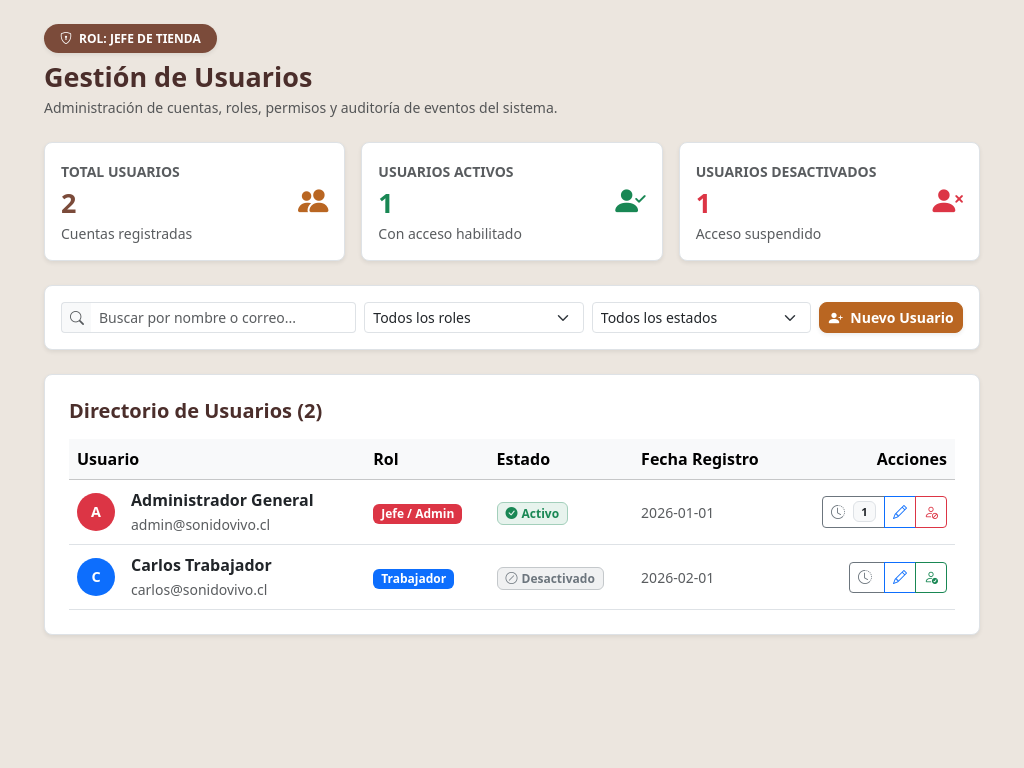
Test: UsuariosJefe - Pruebas Unitarias › 7. Muestra validaciones en el formulario de usuario ante campos vacíos, correo inválido o duplicado
The width and height of the screenshot is (1024, 768).
Click the button "Nuevo Usuario": [891, 318] box [819, 302, 963, 333]
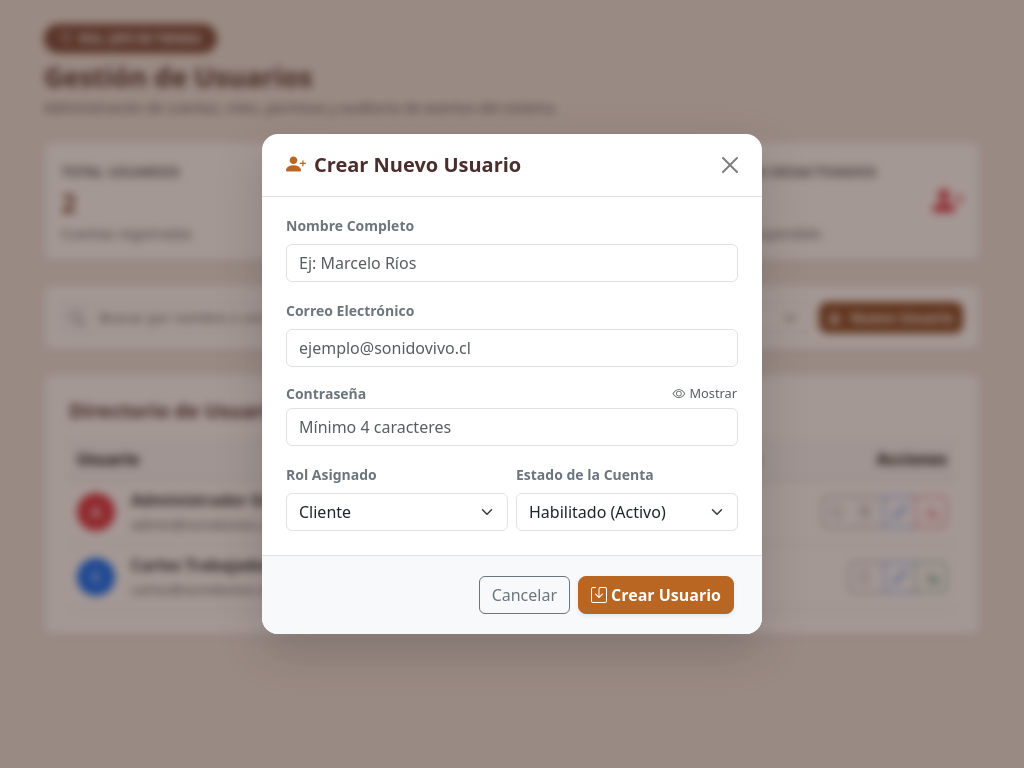
Click the button "Crear Usuario": [656, 595] box [578, 576, 734, 614]
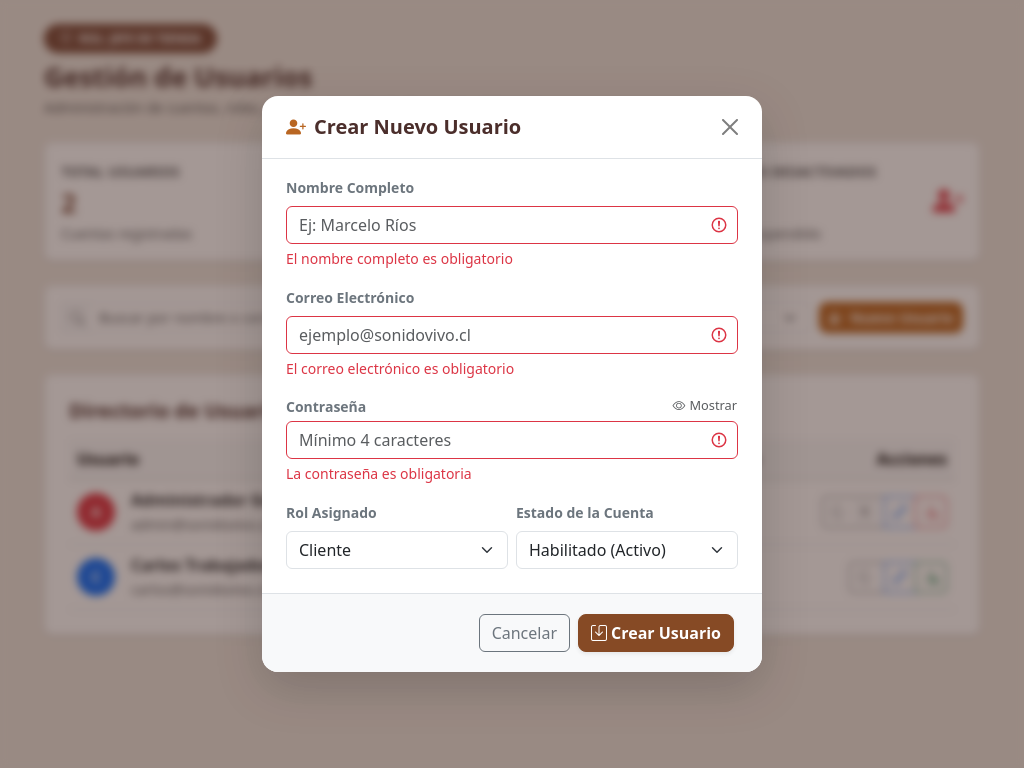
Check: the text "El nombre completo es obligatorio" is shown, box [286, 249, 513, 268]
Check: the text "El correo electrónico es obligatorio" is shown, box [286, 359, 514, 378]
Check: the text "La contraseña es obligatoria" is shown, box [286, 464, 472, 483]
In the field labelled "Correo Electrónico": [512, 335] box [286, 316, 738, 354], type "invalido"
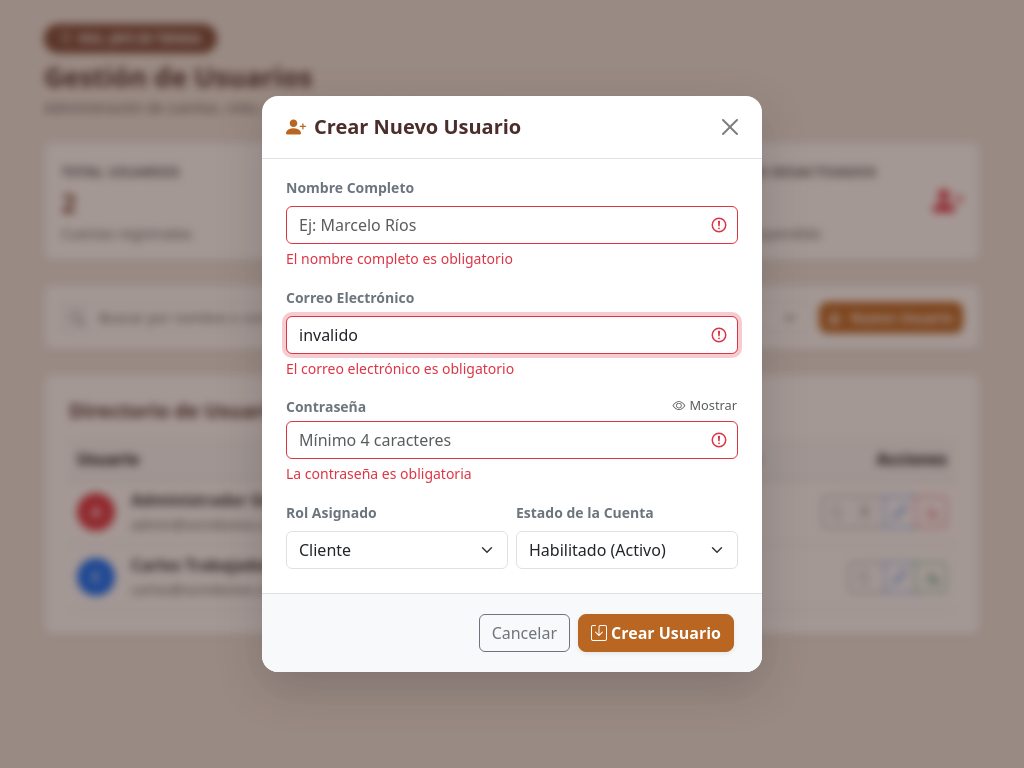
Click the button "Crear Usuario": [656, 633] box [578, 614, 734, 652]
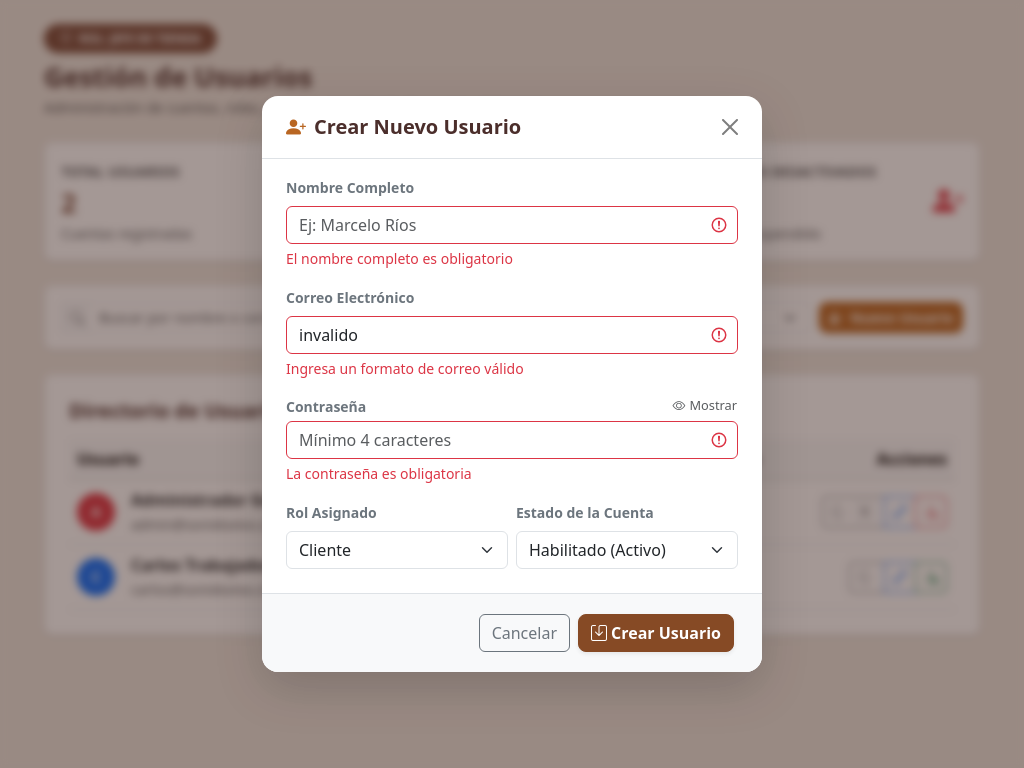
Check: the text "Ingresa un formato de correo válido" is shown, box [286, 359, 524, 378]
Replace the text in the field labelled "Correo Electrónico" with "admin@sonidovivo.cl": [512, 335] box [286, 316, 738, 354]
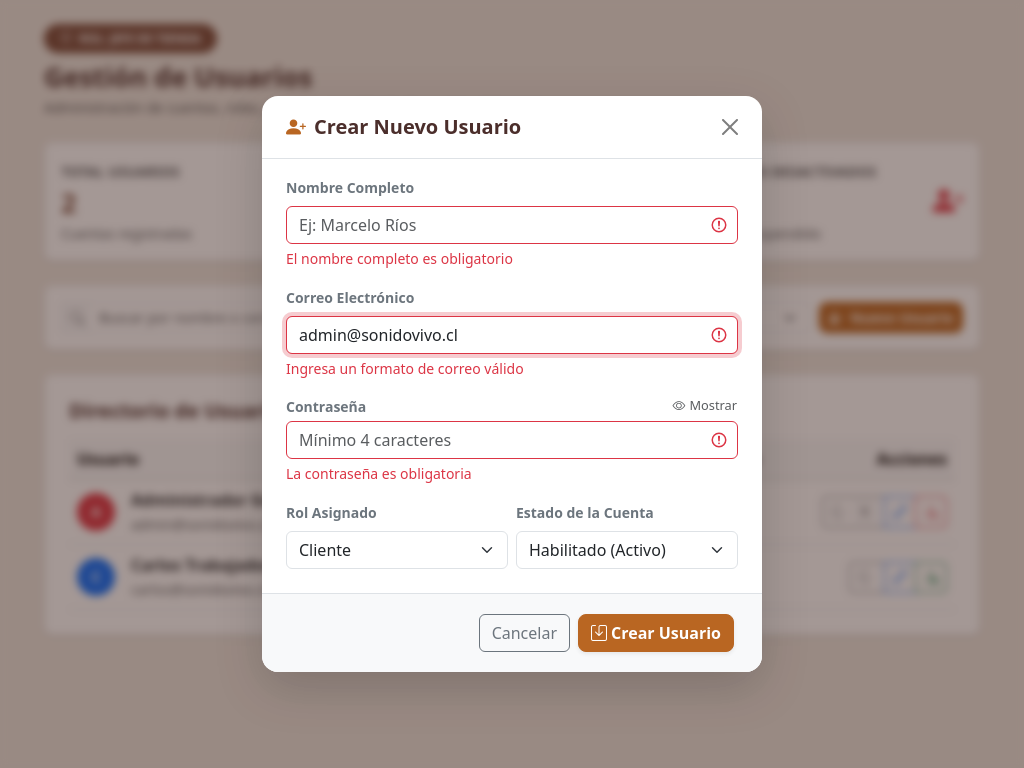
Click the button "Crear Usuario": [656, 633] box [578, 614, 734, 652]
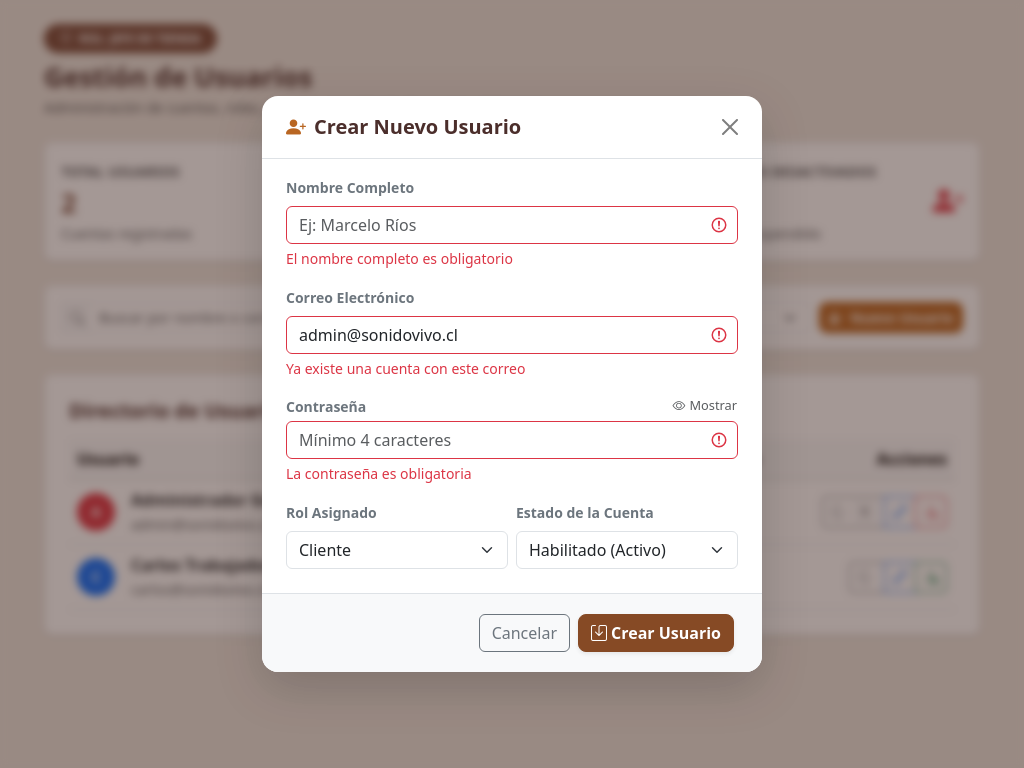
Check: the text "Ya existe una cuenta con este correo" is shown, box [286, 359, 525, 378]
